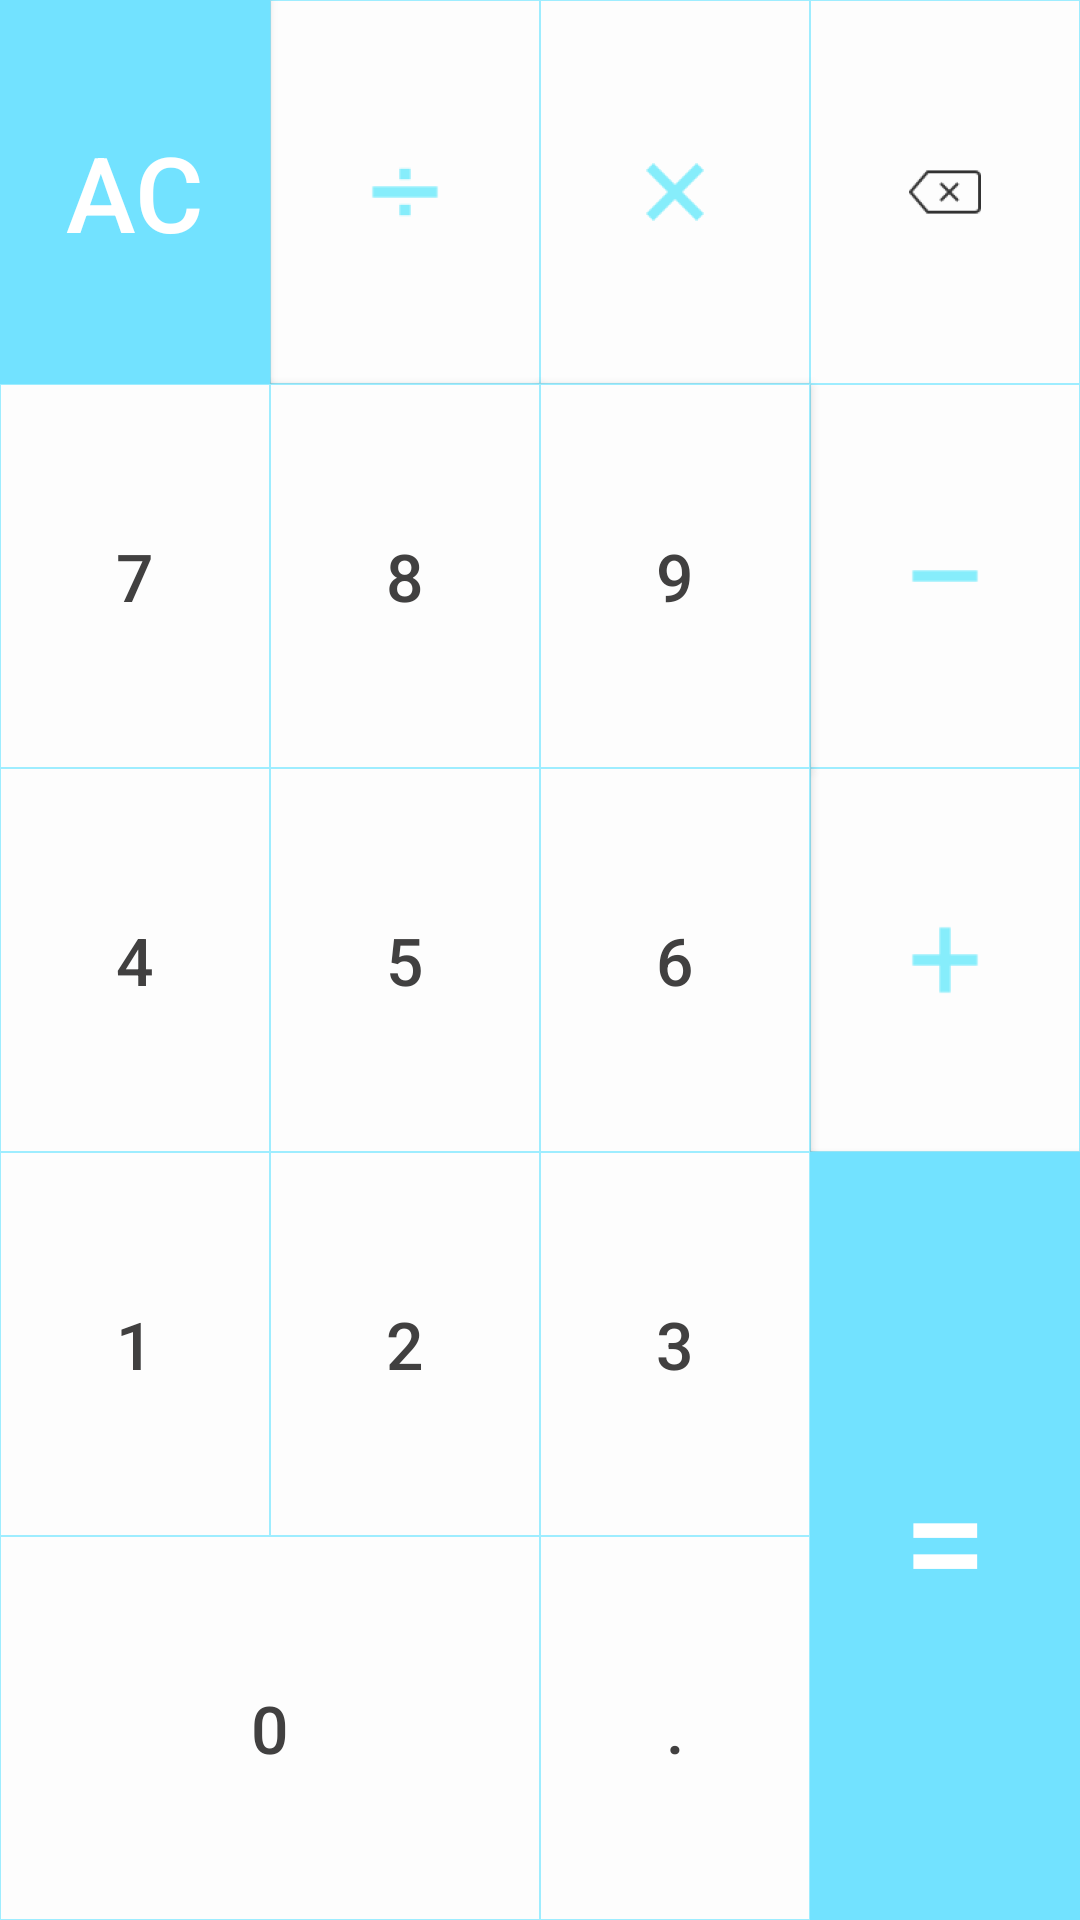

Named icons in this screenshot (1080px×1920px) and their centers, point (x, y):
product: point (675, 192)
